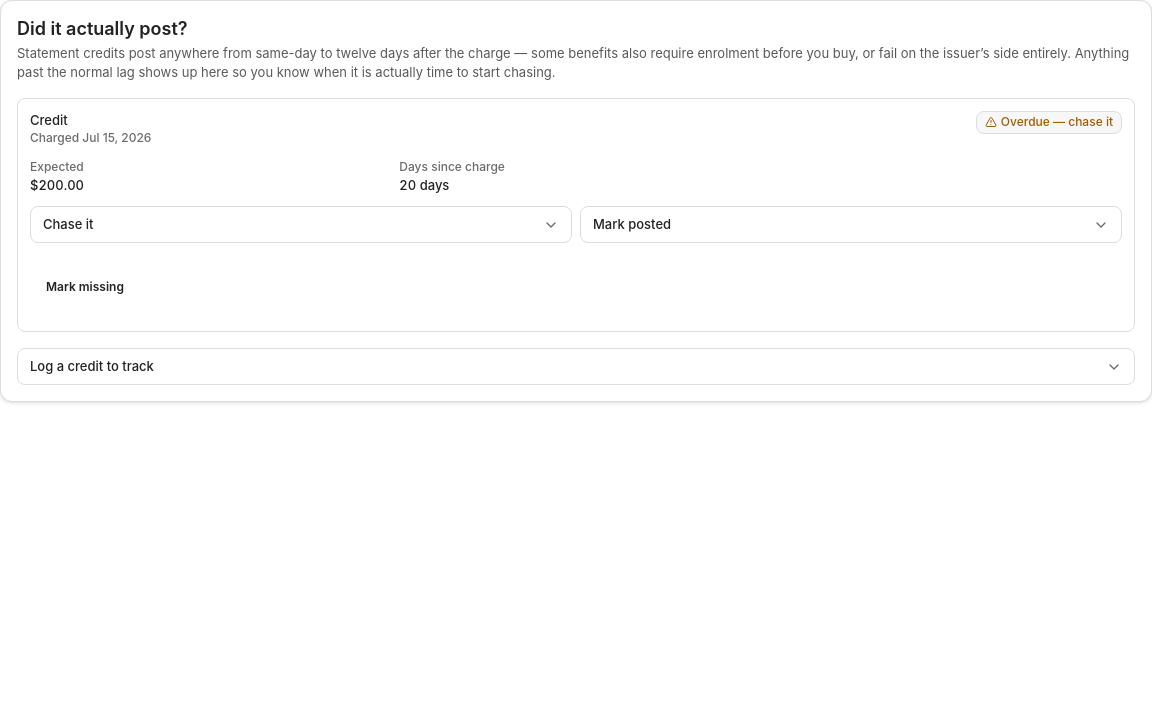
CreditPostingTracker — mark posted / mark missing › shows the failure inline and does not refresh when marking posted fails
The image size is (1152, 720).
Click the button "Mark posted".
click(632, 224)  # box [581,207,1121,242]
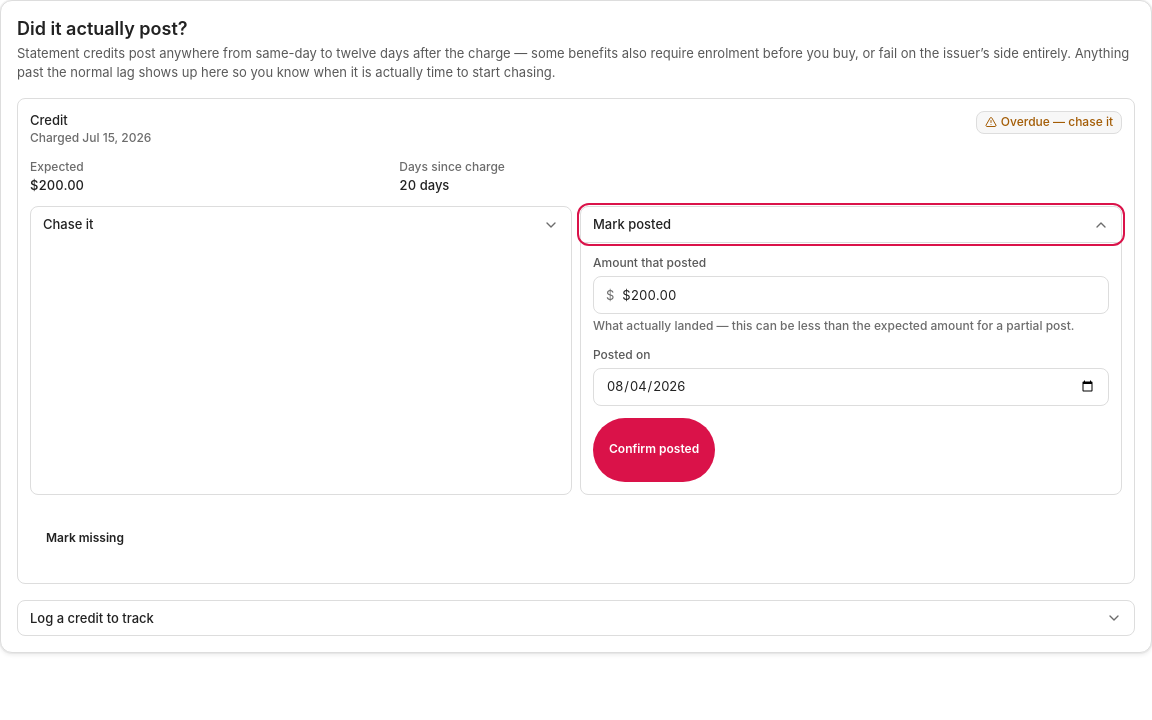
Click the button "Confirm posted".
click(654, 450)  # box [593,418,715,482]
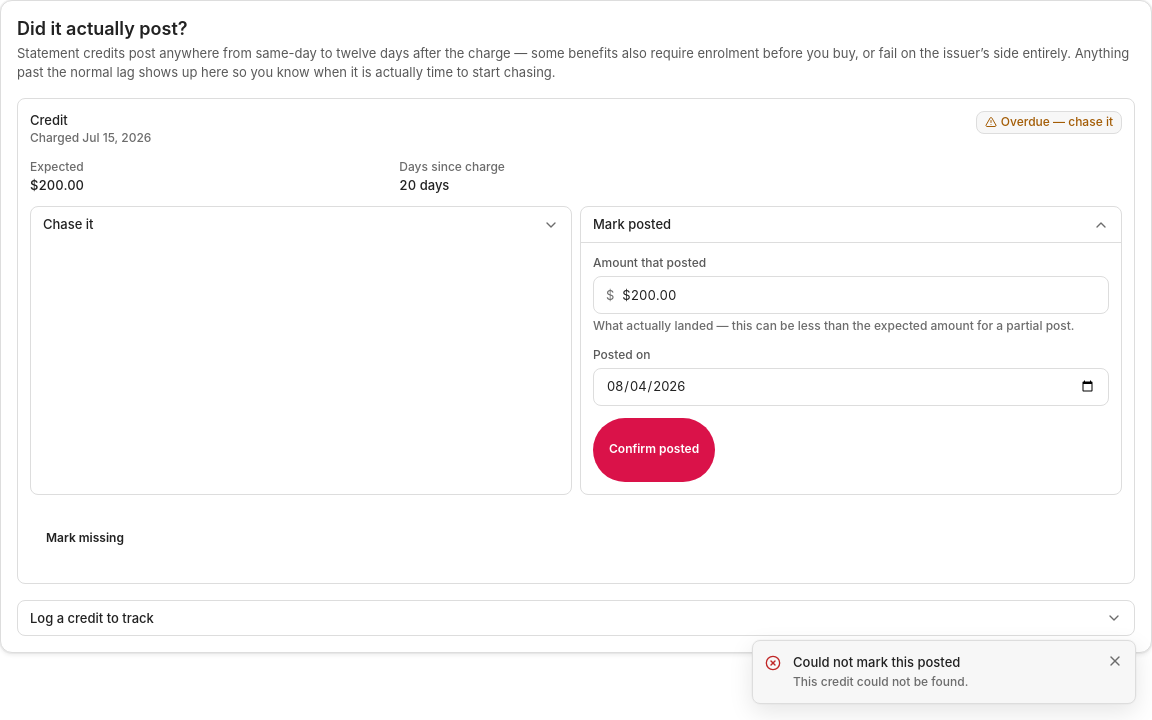
Check: the text "This credit could not be found." is shown, box [793,674,968,689]
